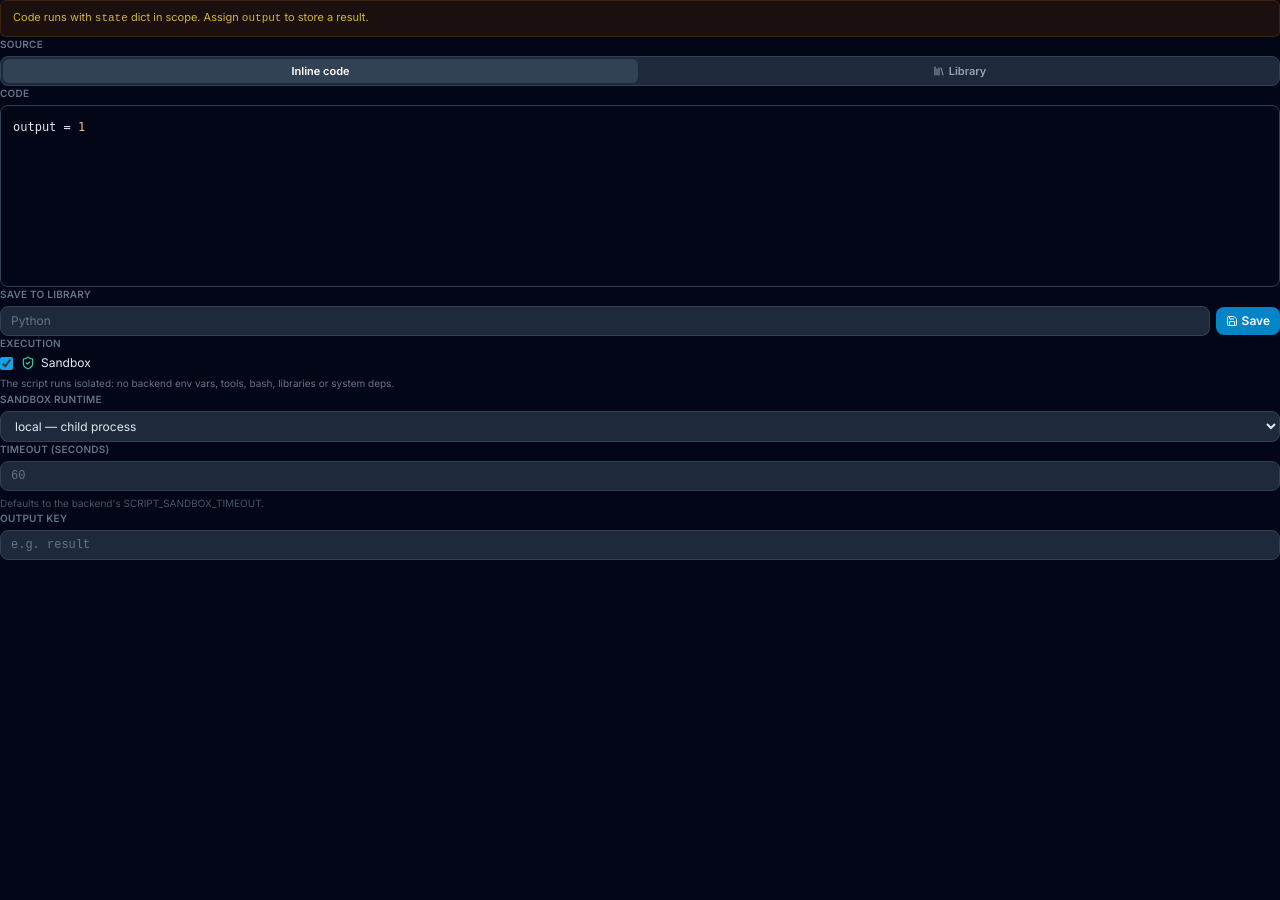
Test: PythonStepFields › applies sandbox:false only after confirming
This screenshot has width=1280, height=900.
Click the checkbox: (6, 364) [0,357,13,370]
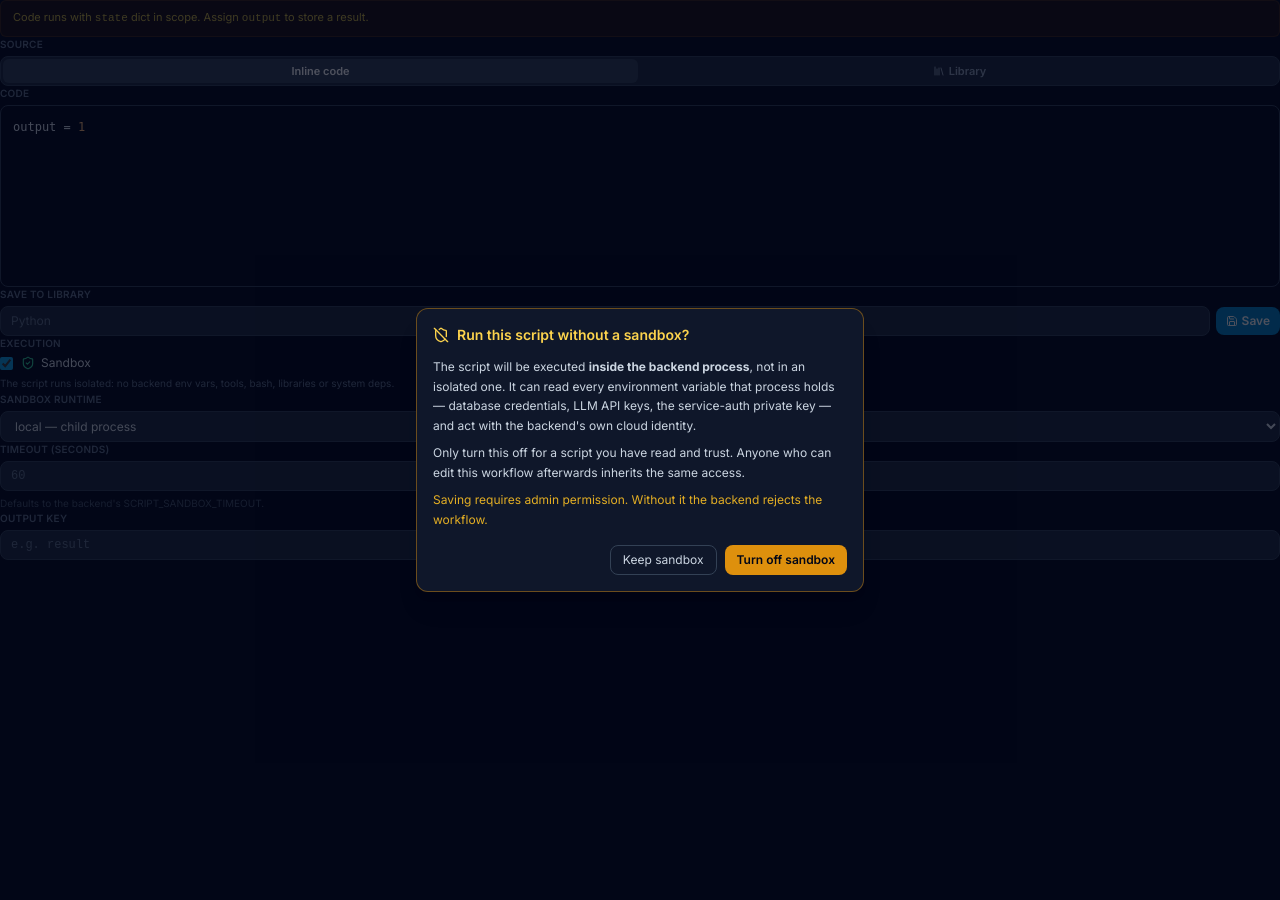
Click the button "Turn off sandbox": (786, 560) [724,545,847,575]
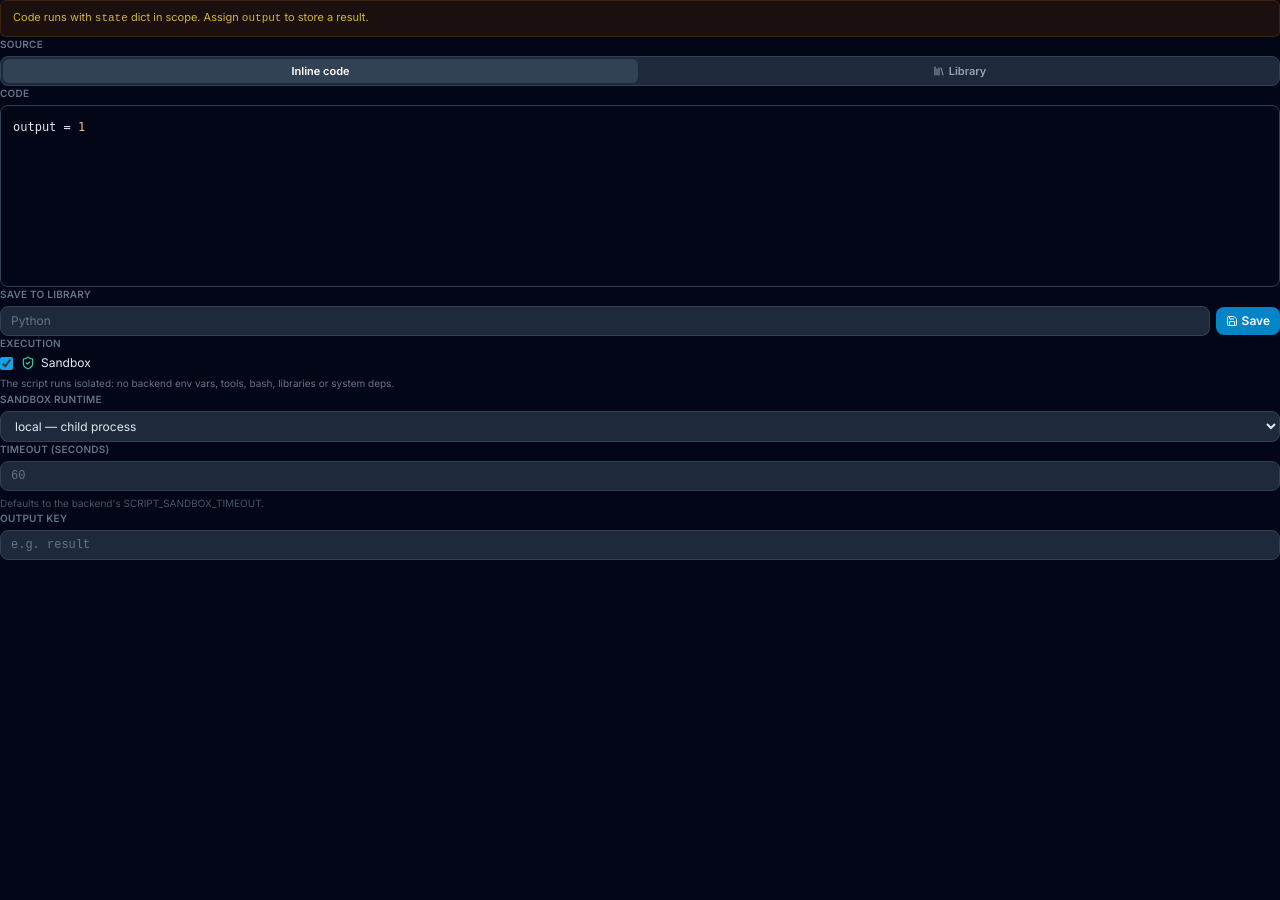
Expected: the dialog is gone
